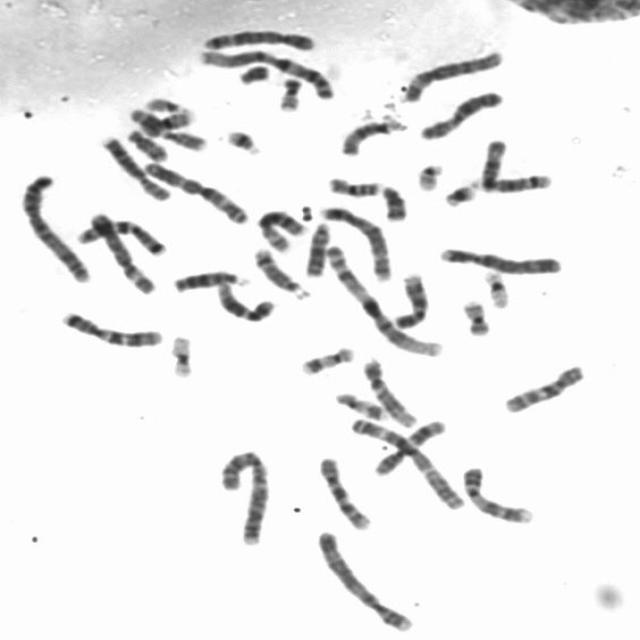A1: (320, 239, 446, 358), (193, 44, 339, 102)
A2: (15, 168, 94, 285), (214, 444, 272, 548)
A3: (343, 412, 466, 511), (137, 157, 252, 225)
B4: (312, 525, 417, 634), (435, 242, 564, 276)
B5: (315, 200, 396, 283), (197, 25, 319, 52)
C10: (313, 452, 375, 532), (498, 360, 589, 414)
C11: (369, 415, 449, 477), (122, 104, 208, 153)
C12: (357, 354, 420, 428), (211, 277, 278, 323)
C6: (82, 208, 159, 296), (396, 45, 506, 104)
C7: (56, 306, 166, 348), (74, 213, 171, 257)
C8: (96, 131, 175, 202), (254, 204, 312, 253)
C9: (457, 462, 538, 525), (389, 268, 431, 330)
D13: (168, 264, 253, 295), (300, 218, 332, 278)
D14: (249, 242, 313, 301), (473, 167, 556, 194)
D15: (336, 112, 406, 158), (476, 135, 510, 193)
E16: (135, 104, 199, 137), (322, 172, 385, 198)
E17: (294, 342, 356, 376), (330, 387, 390, 422)
E18: (123, 125, 170, 162), (376, 180, 410, 222)
F19: (164, 330, 196, 380), (478, 265, 513, 309)
F20: (457, 295, 494, 337), (272, 71, 304, 112)
G21: (220, 124, 265, 156), (439, 177, 481, 208)
G22: (411, 158, 447, 192), (140, 93, 190, 114)
X: (415, 86, 506, 142)
Y: (234, 60, 272, 86)
